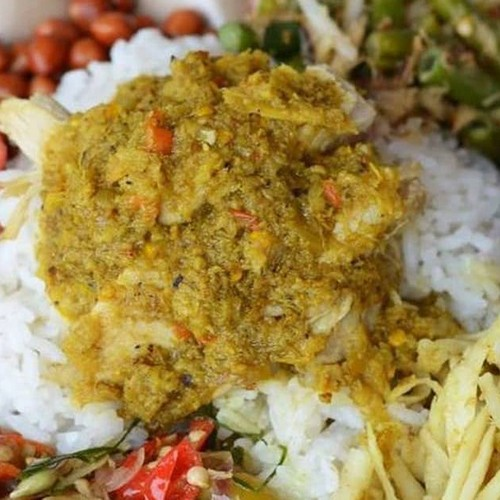nasi tepeng: (16, 42, 477, 473)
